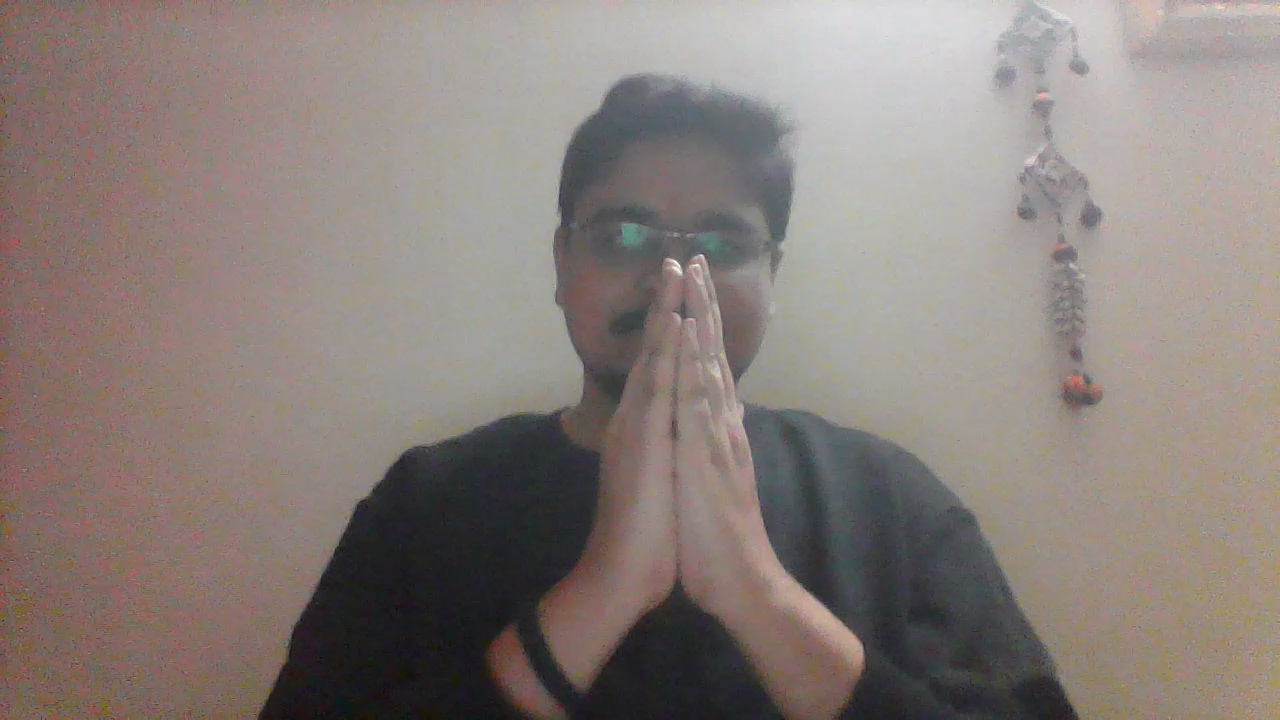Namaste: (548, 254, 841, 684)
